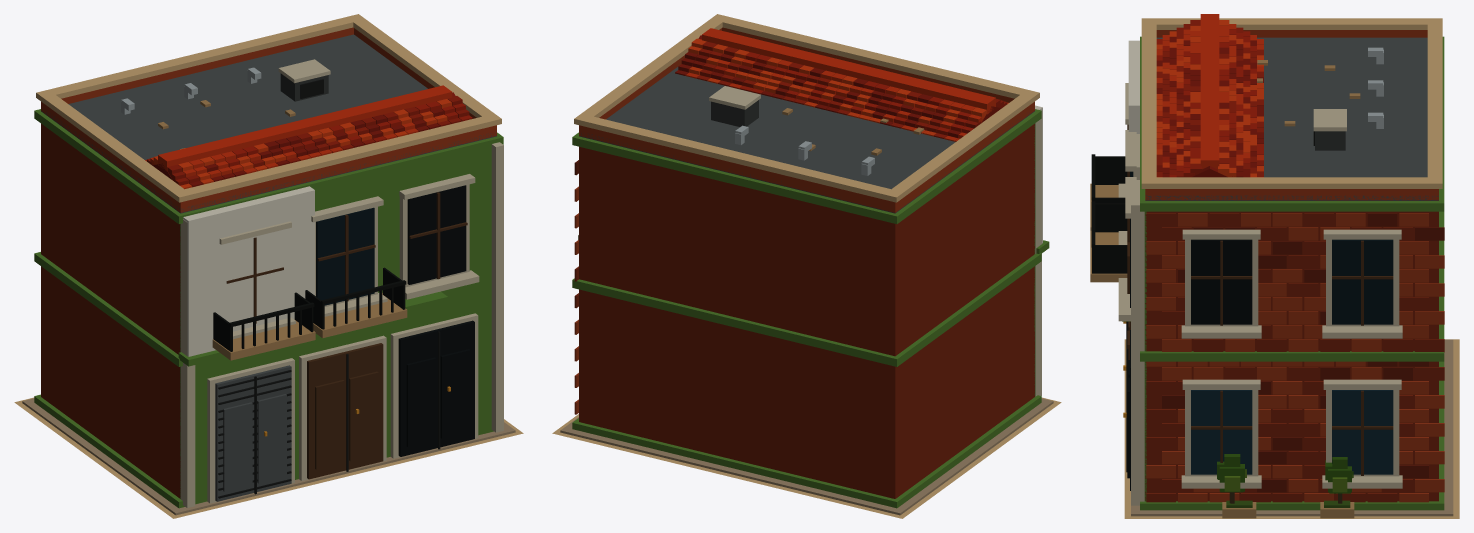
Rendered from SM_Mapa_029.fbx.
3 renders of one model, left to right at view 1: azimuth 30°, elevation 25°; view 2: azimuth 150°, elevation 25°; view 3: azimuth 270°, elevation 25°, orthographic. The views are drawn at different scales.
Parts seen in each view (by area): view 1: SM_Mapa_029; view 2: SM_Mapa_029; view 3: SM_Mapa_029.
Boxes of the visible parts, box(x1,y1,x2,y2) form: SM_Mapa_029: box(14, 14, 523, 518); SM_Mapa_029: box(552, 14, 1061, 518); SM_Mapa_029: box(1090, 14, 1459, 518).
Size of the model in its own units: 8 by 6.85 by 6.97.
